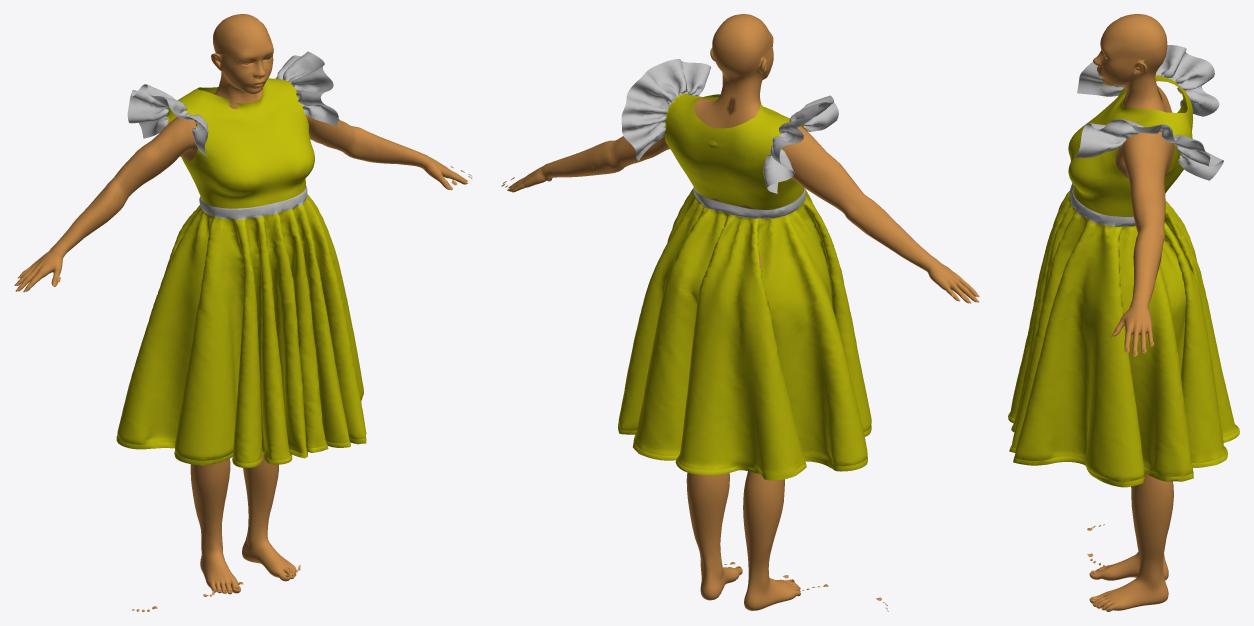
Rendered from dress10.glb.
The picture shows the model from 3 angles, left to right: view 1: azimuth 30°, elevation 25°; view 2: azimuth 150°, elevation 25°; view 3: azimuth 270°, elevation 25°; orthographic projection. The views are drawn at different scales.
Visible parts, largest first — view 1: PinkDrees#14 (OBJ), Body.003; view 2: PinkDrees#14 (OBJ), Body.003; view 3: PinkDrees#14 (OBJ), Body.003.
Part boxes in pixels (left/top/right/bottom): PinkDrees#14 (OBJ): left=116, top=51, right=366, bottom=467; Body.003: left=16, top=14, right=467, bottom=594; PinkDrees#14 (OBJ): left=618, top=59, right=871, bottom=480; Body.003: left=508, top=14, right=976, bottom=610; PinkDrees#14 (OBJ): left=1008, top=45, right=1239, bottom=487; Body.003: left=1089, top=14, right=1174, bottom=611.
Size of the model in its own units: 1.59 by 1.85 by 0.6751.
